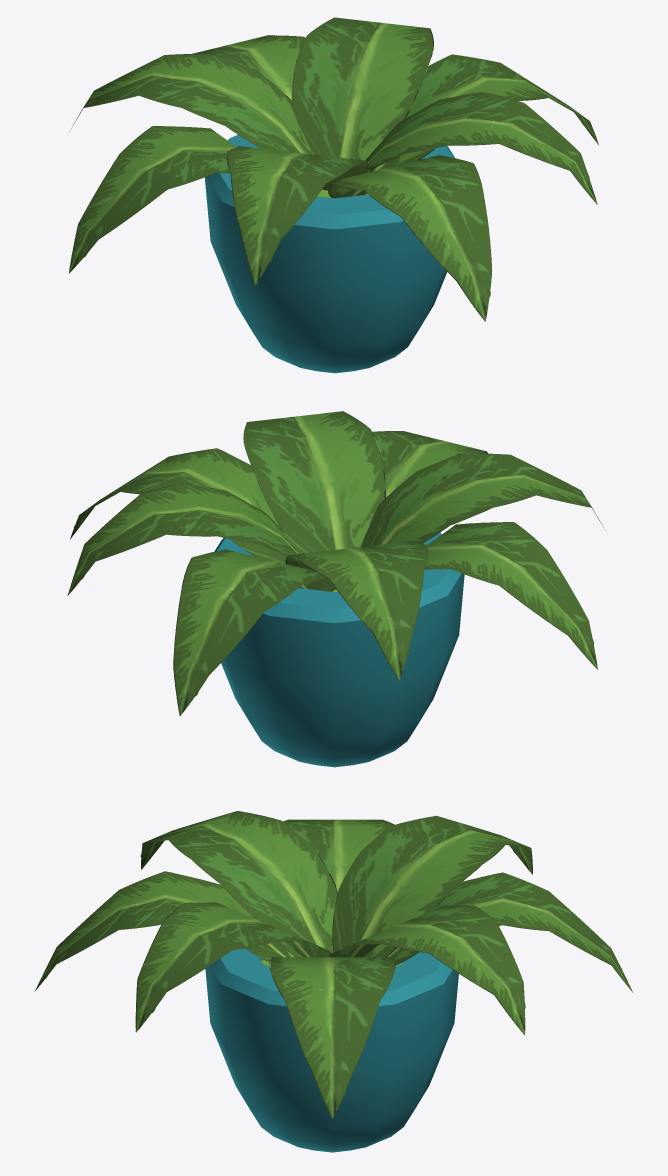
File: Plant_4.obj
3 renders of one model, top to bottom at view 1: azimuth 30°, elevation 25°; view 2: azimuth 150°, elevation 25°; view 3: azimuth 270°, elevation 25°, orthographic. The views are drawn at different scales.
Parts seen in each view (by area): view 1: Plant_4; view 2: Plant_4; view 3: Plant_4.
Boxes of the visible parts, x1,y1,x2,y2 form: Plant_4: (69, 17, 598, 373); Plant_4: (67, 411, 605, 767); Plant_4: (34, 811, 632, 1152).
Size of the model in its own units: 0.8786 by 0.3833 by 0.8786.
